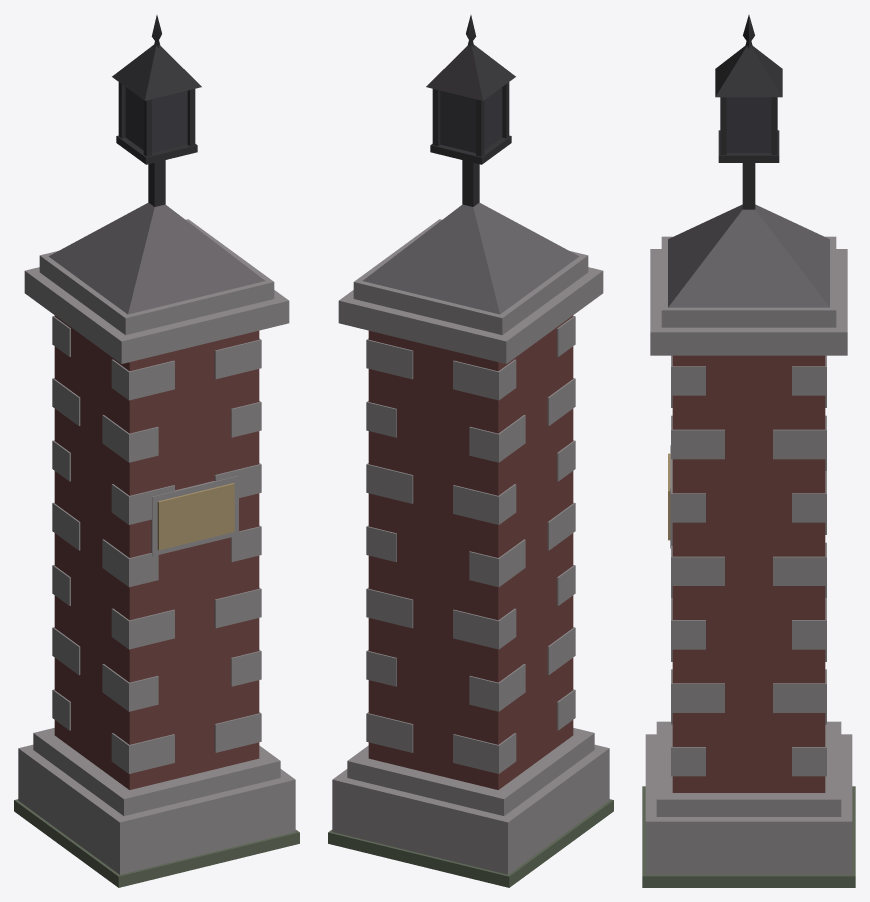
Rendered from gate_pillar.glb.
3 views of the same model, side by side, from view 1: azimuth 30°, elevation 25°; view 2: azimuth 150°, elevation 25°; view 3: azimuth 270°, elevation 25° (orthographic).
Visible parts, largest first — view 1: GatePillar; view 2: GatePillar; view 3: GatePillar.
Part boxes in pixels (x1=…): GatePillar: x1=14, y1=15, x2=299, y2=887; GatePillar: x1=328, y1=15, x2=613, y2=887; GatePillar: x1=642, y1=15, x2=855, y2=887.
Size of the model in its own units: 1.34 by 5.75 by 1.34.
